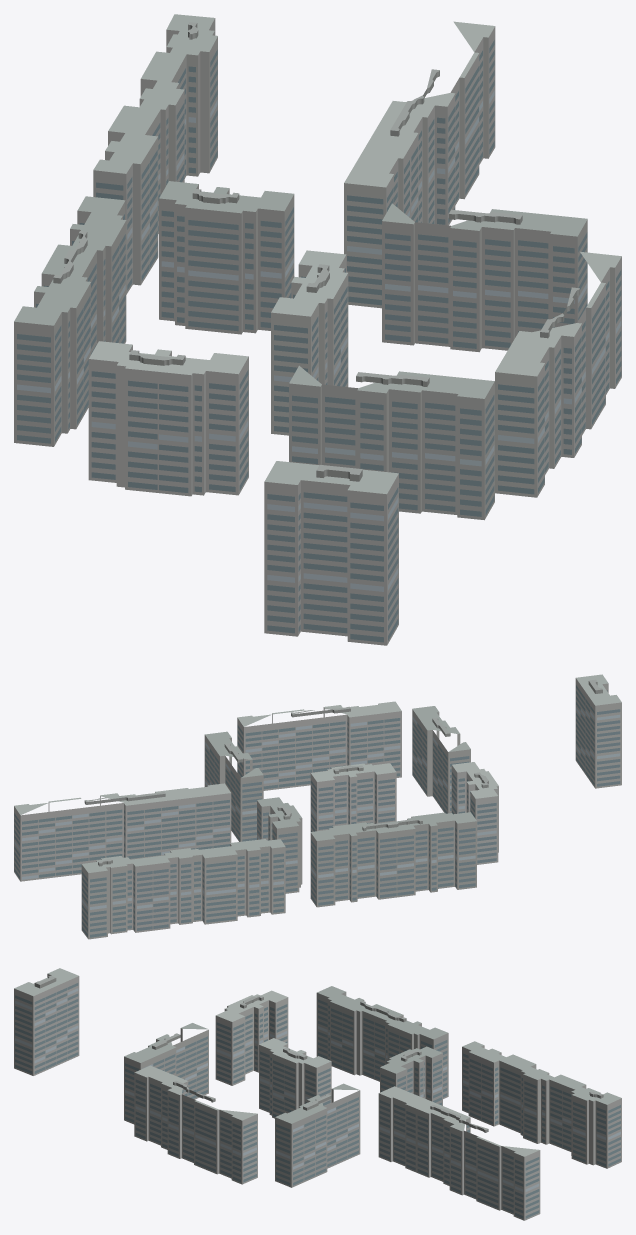
Rendered from apt-a13881103.glb.
3 views of the same model, one above another, from view 1: azimuth 30°, elevation 25°; view 2: azimuth 150°, elevation 25°; view 3: azimuth 270°, elevation 25° (orthographic). The views are drawn at different scales.
Parts seen in each view (by area): view 1: apt-a13881103; view 2: apt-a13881103; view 3: apt-a13881103.
Part boxes in pixels (x1,y1,x2,y2): apt-a13881103: [14, 14, 621, 645]; apt-a13881103: [14, 674, 621, 939]; apt-a13881103: [14, 968, 621, 1220].
Bounding box in the file's own units: 212 × 47.81 × 315.
